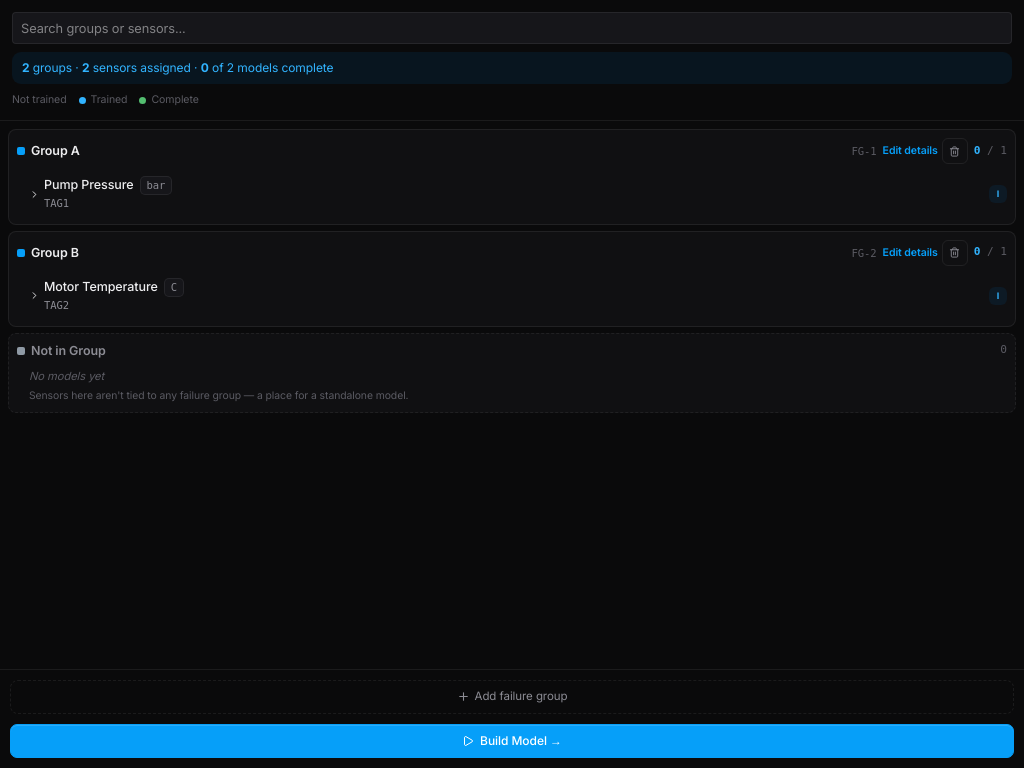
Test: FailureGroupsPanel › search box › a sensor-text match keeps only that sensor's group, hiding the other
Type "motor" into the field with placeholder "Search groups or sensors..." at [512, 28], box top-left (12, 12), bottom-right (1012, 44)
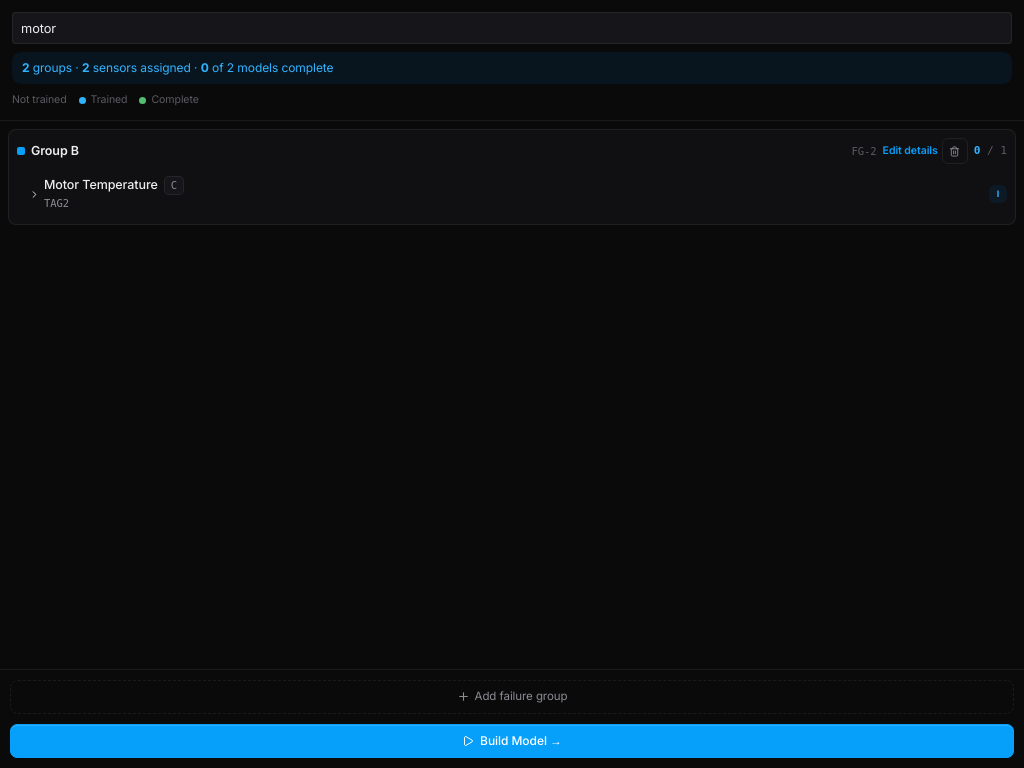
expect the text "Group B" is shown: met, box top-left (31, 143), bottom-right (79, 158)
expect the text "Group A" is gone: met
